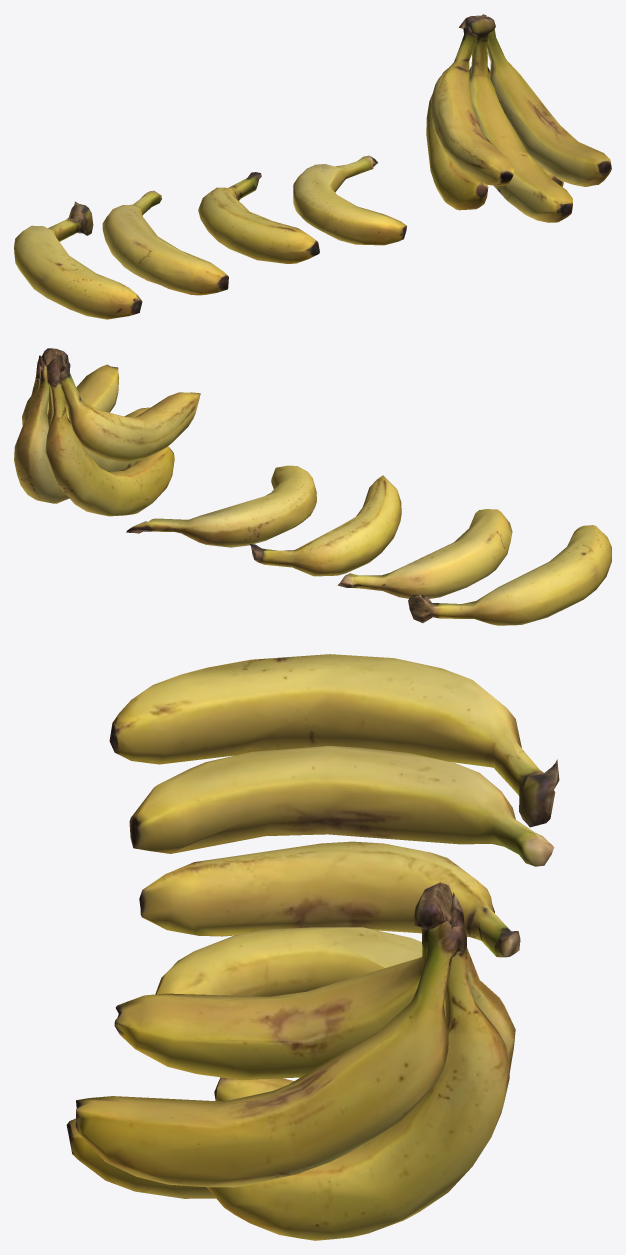
File: bananas.glb
The picture shows the model from 3 angles, top to bottom: view 1: azimuth 30°, elevation 25°; view 2: azimuth 150°, elevation 25°; view 3: azimuth 270°, elevation 25°; orthographic projection. The views are drawn at different scales.
Visible parts, largest first — view 1: bananas_bunch; view 2: bananas_bunch; view 3: bananas_bunch.
Boxes of the visible parts, bbox=[...] form: bananas_bunch: bbox=[14, 14, 611, 319]; bananas_bunch: bbox=[14, 348, 611, 625]; bananas_bunch: bbox=[66, 654, 559, 1240].
Size of the model in its own units: 0.6 by 0.1782 by 0.2439.
1 material, 1 textured.
